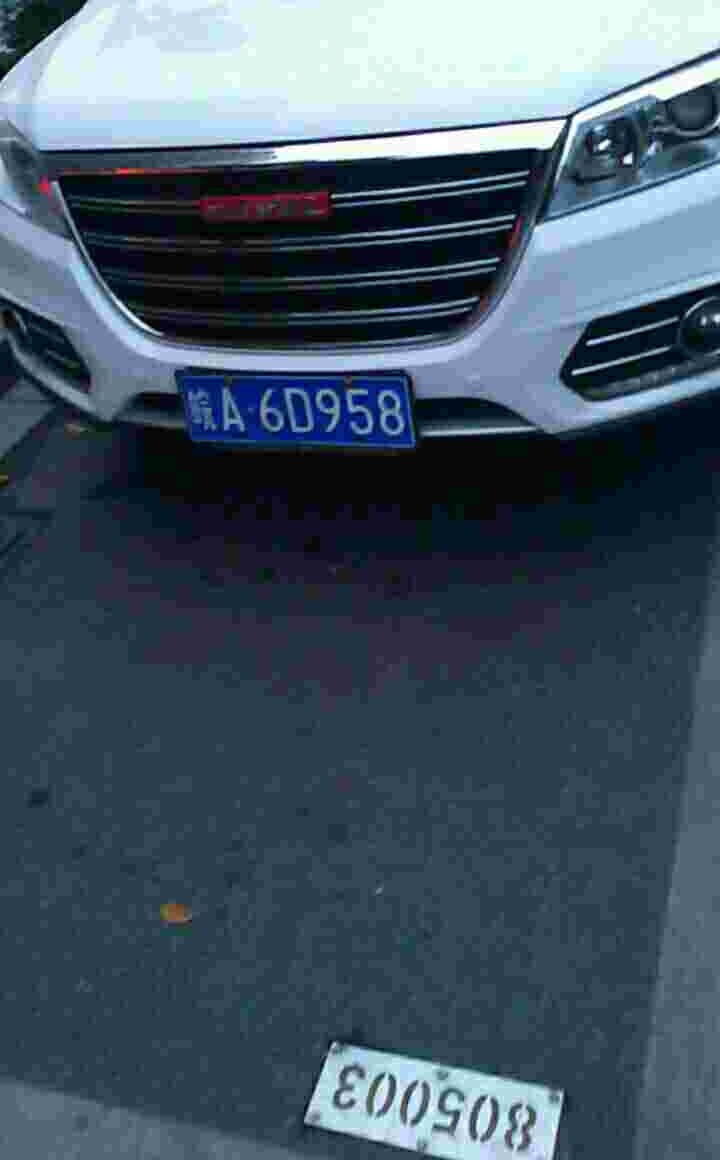plate: (175, 370, 422, 450)
